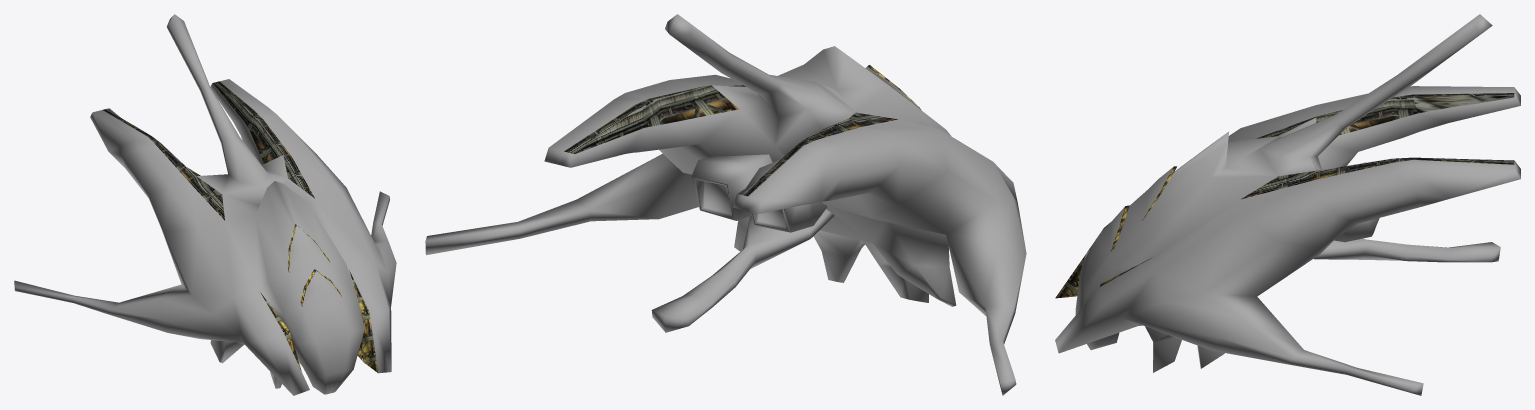
The model's file is MIdestroyer01.dae.
3 renders of one model, left to right at view 1: azimuth 30°, elevation 25°; view 2: azimuth 150°, elevation 25°; view 3: azimuth 270°, elevation 25°, orthographic. The views are drawn at different scales.
Visible parts, largest first — view 1: Cube; view 2: Cube; view 3: Cube.
Boxes of the visible parts, bbox=[...] form: Cube: bbox=[14, 14, 396, 395]; Cube: bbox=[425, 14, 1026, 395]; Cube: bbox=[1055, 14, 1520, 395].
Bounding box in the file's own units: 11.12 × 7.73 × 9.55.
Materials: 14 (7 with a texture image).
